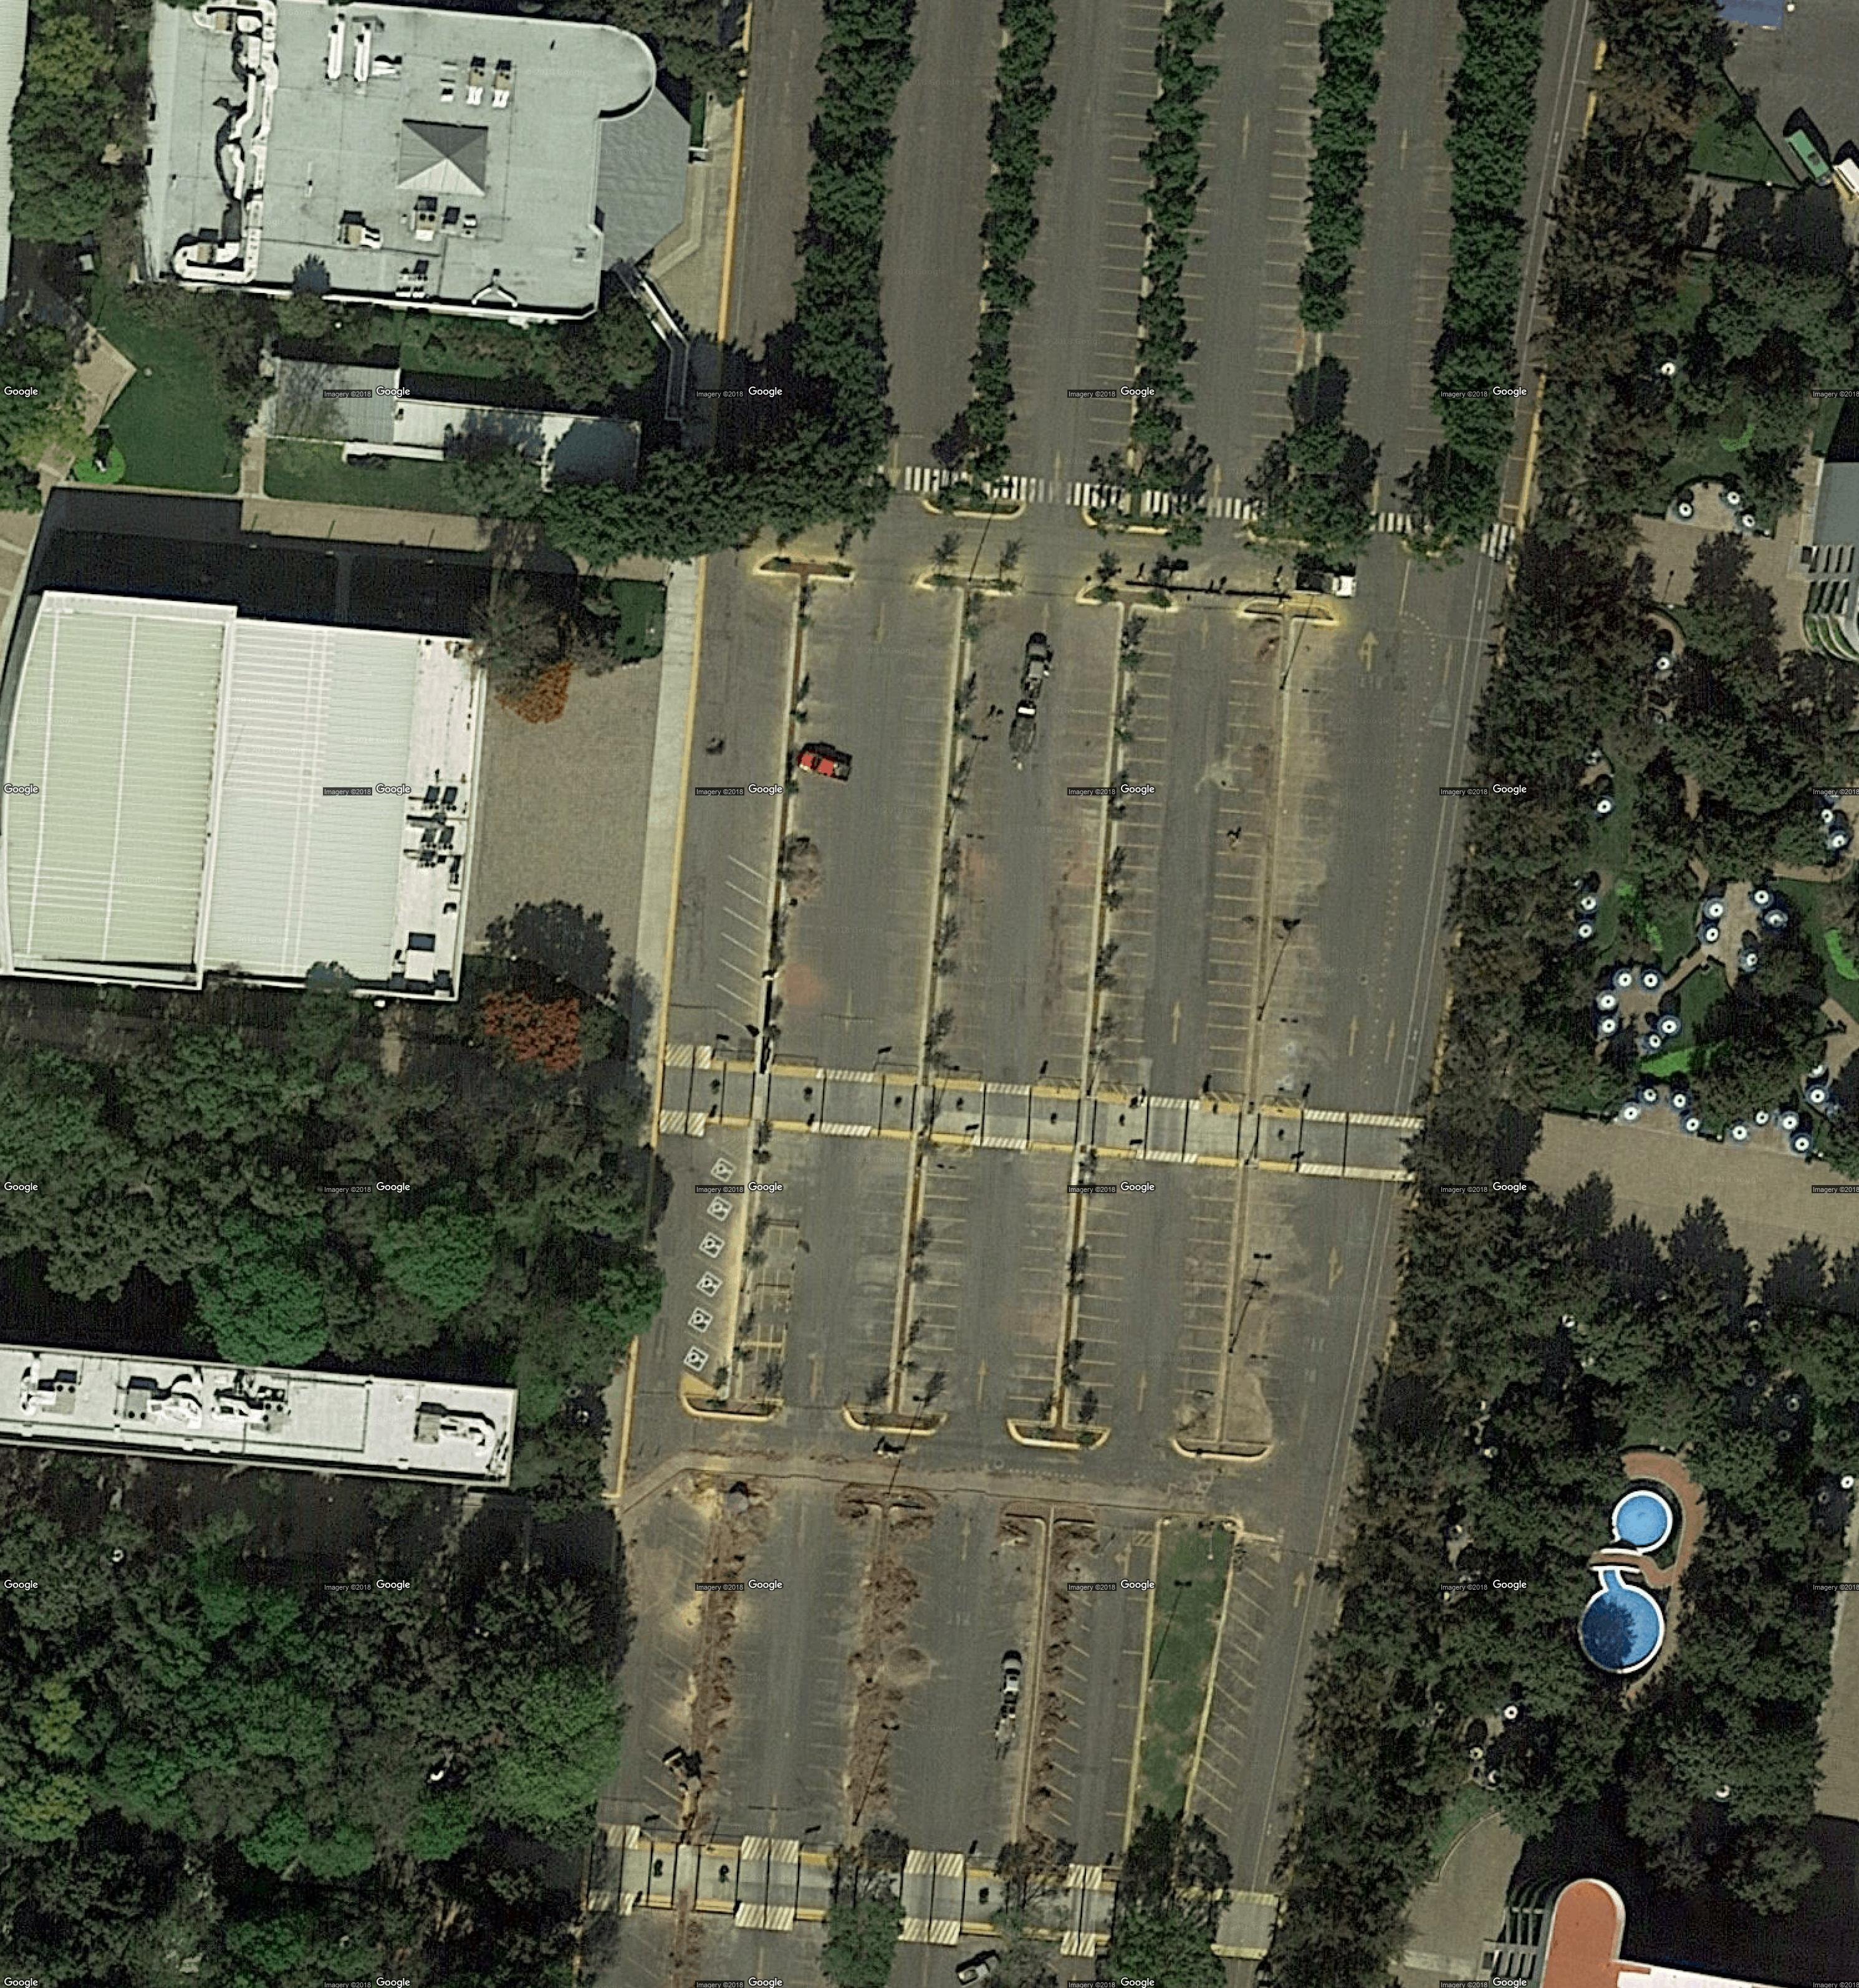parkingspot: (928, 589, 1022, 1076), (870, 582, 963, 1071), (1242, 0, 1331, 501), (1036, 599, 1127, 1083), (1090, 604, 1181, 1088), (1080, 0, 1169, 489), (769, 575, 858, 1062), (1256, 618, 1345, 1102), (1197, 613, 1282, 1099), (1174, 1536, 1284, 1892), (1394, 2, 1469, 500), (1160, 0, 1230, 493), (998, 17, 1064, 477), (638, 1483, 713, 1845), (798, 1522, 875, 1848), (701, 1534, 776, 1827), (896, 1149, 975, 1419), (839, 1134, 914, 1413), (1062, 1165, 1139, 1432), (1165, 1170, 1239, 1445), (1001, 1158, 1076, 1424), (1097, 1543, 1157, 1873), (676, 1132, 750, 1398), (1234, 1177, 1303, 1448), (1312, 159, 1380, 426), (1036, 1590, 1097, 1876), (966, 1576, 1029, 1841), (711, 851, 774, 1062), (1501, 311, 1557, 510), (888, 1677, 929, 1838), (896, 1541, 935, 1660), (620, 1908, 676, 1988), (786, 1937, 833, 1988)
